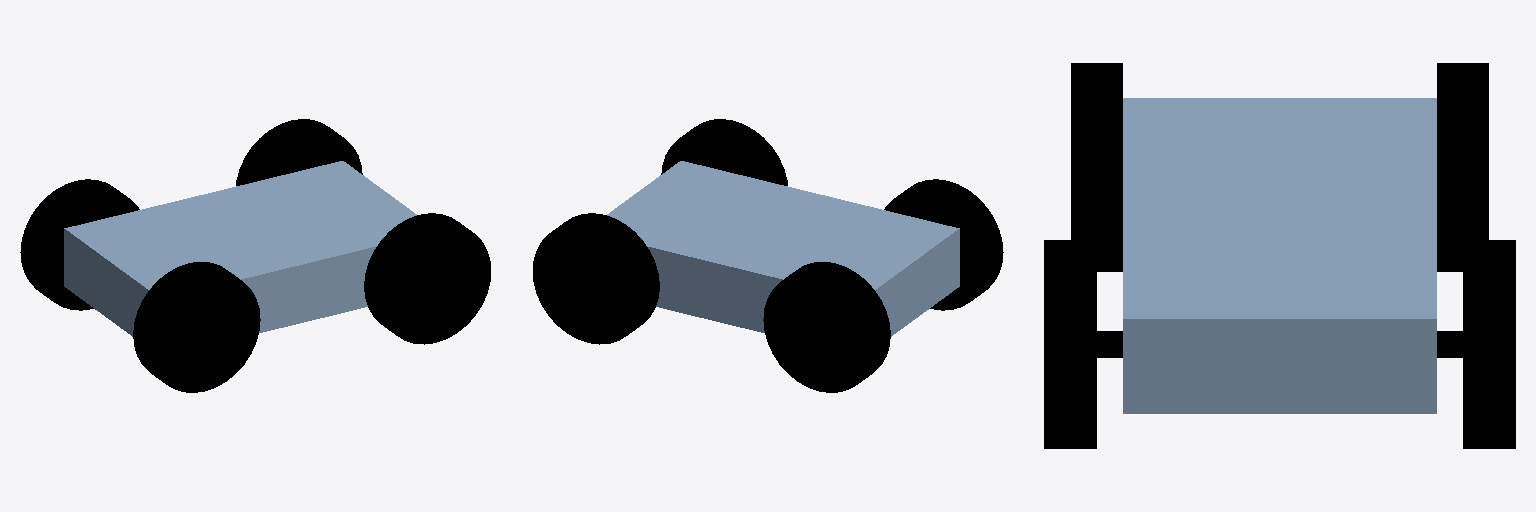
The robot description file, URDF, robot "simplecar":
<?xml version="1.0"?> 
<robot name="simplecar">
    <!-- Colors --> 
    <material name="black"> 
        <color rgba="0 0 0 1"/>
    </material>
    <material name="blue"> 
        <color rgba="0.6 0.7 0.8 1"/>
    </material>


    <!-- Base Frame of Car --> 
    <link name="base_link">
        <visual> 
            <geometry> 
                <box size="0.5 0.3 0.1"/>
            </geometry>
            <material name="blue"/>
        </visual>
        <inertial>
            <mass value="6"/>
            <inertia ixx="0.1" ixy="0" ixz="0" iyy="0.1" iyz="0.0" izz="0.1"/>
        </inertial> 
    </link> 


    <!-- Left Front Wheel -->
    <link name="left_front_wheel">
        <visual> 
            <geometry> 
                <cylinder length="0.05" radius="0.1"/>
            </geometry>
            <origin rpy="1.57075 1.57075 0"/>
            <material name="black"/>
        </visual>
        <collision> 
             <geometry> 
                <cylinder length="0.05" radius="0.1"/>
            </geometry>
            <origin rpy="1.57075 1.57075 0"/>
        </collision> 
        <inertial> 
            <origin rpy="1.57075 1.57075 0"/>
            <mass value="0.3"/>
            <inertia ixx="0.4" ixy="0" ixz="0" iyy="0.4" iyz="0.0" izz="0.2"/>
        </inertial> 
    </link> 
    <joint name="left_hinge_to_left_front_wheel" type="continuous">
        <parent link="left_hinge"/>
        <child link="left_front_wheel"/> 
        <axis xyz="0 1 0"/>
        <origin xyz="0 0.2 0"/>
    </joint>
    <!-- Left Front Wheel - Hinge -->
    <link name="left_hinge">
        <visual> 
            <geometry> 
                <box size="0.20 0.02 0.02"/>
            </geometry>
            <origin xyz="0 0.1 0 " rpy="0 0 1.57075"/>
            <material name="black"/>
        </visual>
        <inertial> 
            <origin rpy="0 0 1.57075"/>
            <mass value="0.01"/>
            <inertia ixx="5E-6" ixy="0" ixz="0" iyy="5E-6" iyz="0" izz="5E-6"/>
        </inertial> 
    </link> 
    <joint name="base_to_left_hinge" type="revolute">
        <parent link="base_link"/>
        <child link="left_hinge"/> 
        <axis xyz="0 0 1"/>
        <origin xyz="0.2 0.0 0"/>
        <limit effort="100" lower="-0.5" upper="0.5" velocity="100"/>
    </joint>
    <!-- Right Front Wheel -->
    <link name="right_front_wheel">
        <visual> 
            <geometry> 
                <cylinder length="0.05" radius="0.1"/>
            </geometry>
            <origin rpy="-1.57075 -1.57075 0"/>
            <material name="black"/>
        </visual>
        <collision> 
             <geometry> 
                <cylinder length="0.05" radius="0.1"/>
            </geometry>
            <origin rpy="-1.57075 -1.57075 0"/>
        </collision> 
        <inertial> 
            <origin rpy="-1.57075 -1.57075 0"/>
            <mass value="0.3"/>
            <inertia ixx="0.4" ixy="0" ixz="0" iyy="0.4" iyz="0.0" izz="0.2"/>
        </inertial> 
    </link> 
    <joint name="right_hinge_to_right_front_wheel" type="continuous">
        <parent link="right_hinge"/>
        <child link="right_front_wheel"/> 
        <axis xyz="0 1 0"/>
        <origin xyz="0 -0.2 0"/>
    </joint>
    <!-- Right Front Wheel - Hinge -->
    <link name="right_hinge">
        <visual> 
            <geometry> 
                <box size="0.20 0.02 0.02"/>
            </geometry>
            <origin xyz="0 -0.1 0 " rpy="0 0 -1.57075"/>
            <material name="black"/>
        </visual>
        <inertial> 
            <origin rpy="0 0 -1.57075"/>
            <mass value="0.01"/>
            <inertia ixx="5E-6" ixy="0" ixz="0" iyy="5E-6" iyz="0" izz="5E-6"/>
        </inertial> 
    </link> 
    <joint name="base_to_right_hinge" type="revolute">
        <parent link="base_link"/>
        <child link="right_hinge"/> 
        <axis xyz="0 0 1"/>
        <origin xyz="0.2 0 0"/>
        <limit effort="100" lower="-0.5" upper="0.5" velocity="100"/>
    </joint>
    <!-- Left Back Wheel -->
    <link name="left_back_wheel">
        <visual> 
            <geometry> 
                <cylinder length="0.05" radius="0.1"/>
            </geometry>
            <origin rpy="1.57075 1.57075 0"/>
            <material name="black"/>
        </visual>
        <collision> 
             <geometry> 
                <cylinder length="0.05" radius="0.1"/>
            </geometry>
            <origin rpy="1.57075 1.57075 0"/>
        </collision> 
        <inertial> 
            <origin rpy="1.57075 1.57075 0"/>
            <mass value="0.3"/>
            <inertia ixx="0.4" ixy="0" ixz="0" iyy="0.4" iyz="0.0" izz="0.2"/>
        </inertial> 
    </link> 
    <joint name="base_to_left_back_wheel" type="continuous">
        <parent link="base_link"/>
        <child link="left_back_wheel"/> 
        <axis xyz="0 1 0"/>
        <origin xyz="-0.2 0.175 0"/>
    </joint>
    <!-- Right Back Wheel -->
    <link name="right_back_wheel">
        <visual> 
            <geometry> 
                <cylinder length="0.05" radius="0.1"/>
            </geometry>
            <origin rpy="-1.57075 -1.57075 0"/>
            <material name="black"/>
        </visual>
        <collision> 
             <geometry> 
                <cylinder length="0.05" radius="0.1"/>
            </geometry>
            <origin rpy="-1.57075 -1.57075 0"/>
        </collision> 
        <inertial> 
            <origin rpy="-1.57075 -1.57075 0"/>
            <mass value="0.3"/>
            <inertia ixx="0.4" ixy="0" ixz="0" iyy="0.4" iyz="0.0" izz="0.2"/>
        </inertial> 
    </link> 
    <joint name="base_to_right_back_wheel" type="continuous">
        <parent link="base_link"/>
        <child link="right_back_wheel"/> 
        <axis xyz="0 1 0"/>
        <origin xyz="-0.2 -0.175 0"/>
    </joint>
</robot>

--- What the picture shows (computed from the rendered views, not written in the file) ---
3 views of the same robot in one strip: view 1: azimuth 30°, elevation 25°; view 2: azimuth 150°, elevation 25°; view 3: azimuth 270°, elevation 25° (orthographic).
Model simplecar with 7 links and 6 joints (2 revolute, 4 continuous), rooted at base_link, posed every joint at zero.
Visible links, largest first — view 1: base_link, right_back_wheel, right_front_wheel, left_back_wheel, left_front_wheel; view 2: base_link, left_back_wheel, left_front_wheel, right_back_wheel, right_front_wheel; view 3: base_link, left_front_wheel, right_front_wheel, left_back_wheel, right_back_wheel, left_hinge, right_hinge.
Boxes of the visible links, left/top/right/bottom form: base_link: left=64, top=161, right=416, bottom=336; right_back_wheel: left=133, top=262, right=260, bottom=392; right_front_wheel: left=364, top=213, right=490, bottom=344; left_back_wheel: left=20, top=179, right=139, bottom=310; left_front_wheel: left=236, top=119, right=362, bottom=185; base_link: left=607, top=161, right=959, bottom=336; left_back_wheel: left=763, top=262, right=890, bottom=392; left_front_wheel: left=533, top=213, right=659, bottom=344; right_back_wheel: left=884, top=179, right=1003, bottom=310; right_front_wheel: left=661, top=119, right=787, bottom=185; base_link: left=1123, top=98, right=1436, bottom=413; left_front_wheel: left=1463, top=240, right=1515, bottom=448; right_front_wheel: left=1044, top=240, right=1096, bottom=448; left_back_wheel: left=1437, top=63, right=1488, bottom=271; right_back_wheel: left=1071, top=63, right=1122, bottom=271; left_hinge: left=1437, top=331, right=1462, bottom=357; right_hinge: left=1097, top=331, right=1122, bottom=357.
Size in the robot's own frame: 0.6 by 0.45 by 0.2 metres.
Geometry: primitives only (box / cylinder / sphere), no mesh files.